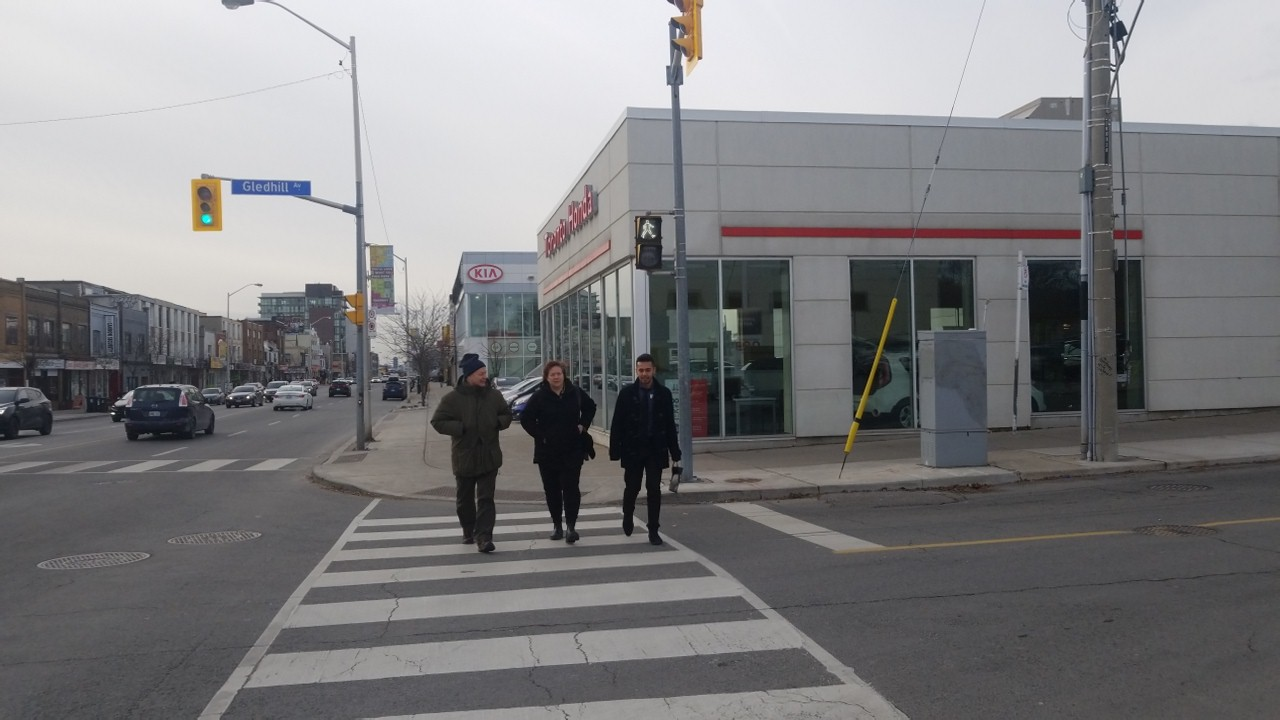light: (631, 209, 666, 269)
